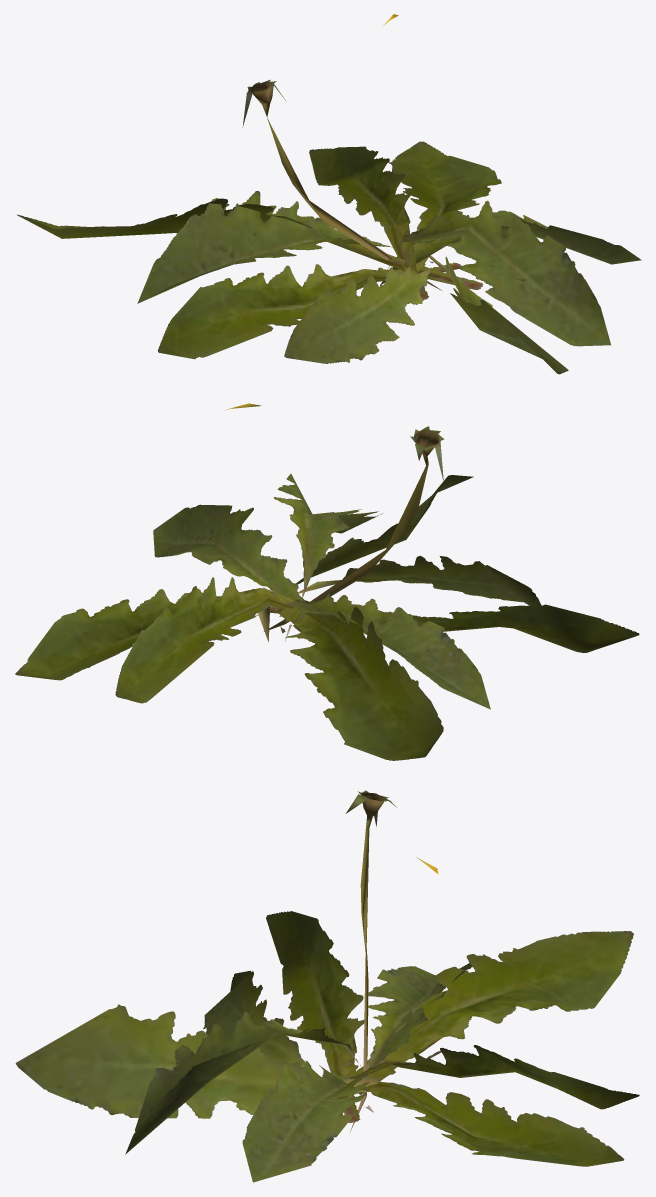
3 renders of one model, top to bottom at view 1: azimuth 30°, elevation 25°; view 2: azimuth 150°, elevation 25°; view 3: azimuth 270°, elevation 25°, orthographic. The views are drawn at different scales.
Parts seen in each view (by area): view 1: dandelion_01__b_lod1; view 2: dandelion_01__b_lod1; view 3: dandelion_01__b_lod1.
Boxes of the visible parts, bbox=[...] form: dandelion_01__b_lod1: bbox=[17, 14, 641, 374]; dandelion_01__b_lod1: bbox=[15, 403, 639, 760]; dandelion_01__b_lod1: bbox=[15, 790, 639, 1182].
Size of the model in its own units: 0.2311 by 0.116 by 0.2498.
Materials: 1 (1 with a texture image).
